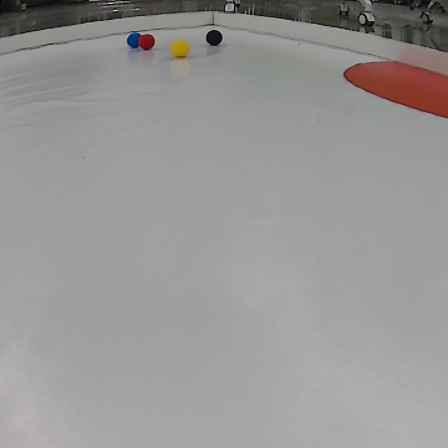black: (205, 29, 226, 47)
blue: (124, 30, 144, 50)
red: (139, 33, 157, 51)
red_base: (336, 55, 448, 123)
yellow: (171, 38, 190, 59)
